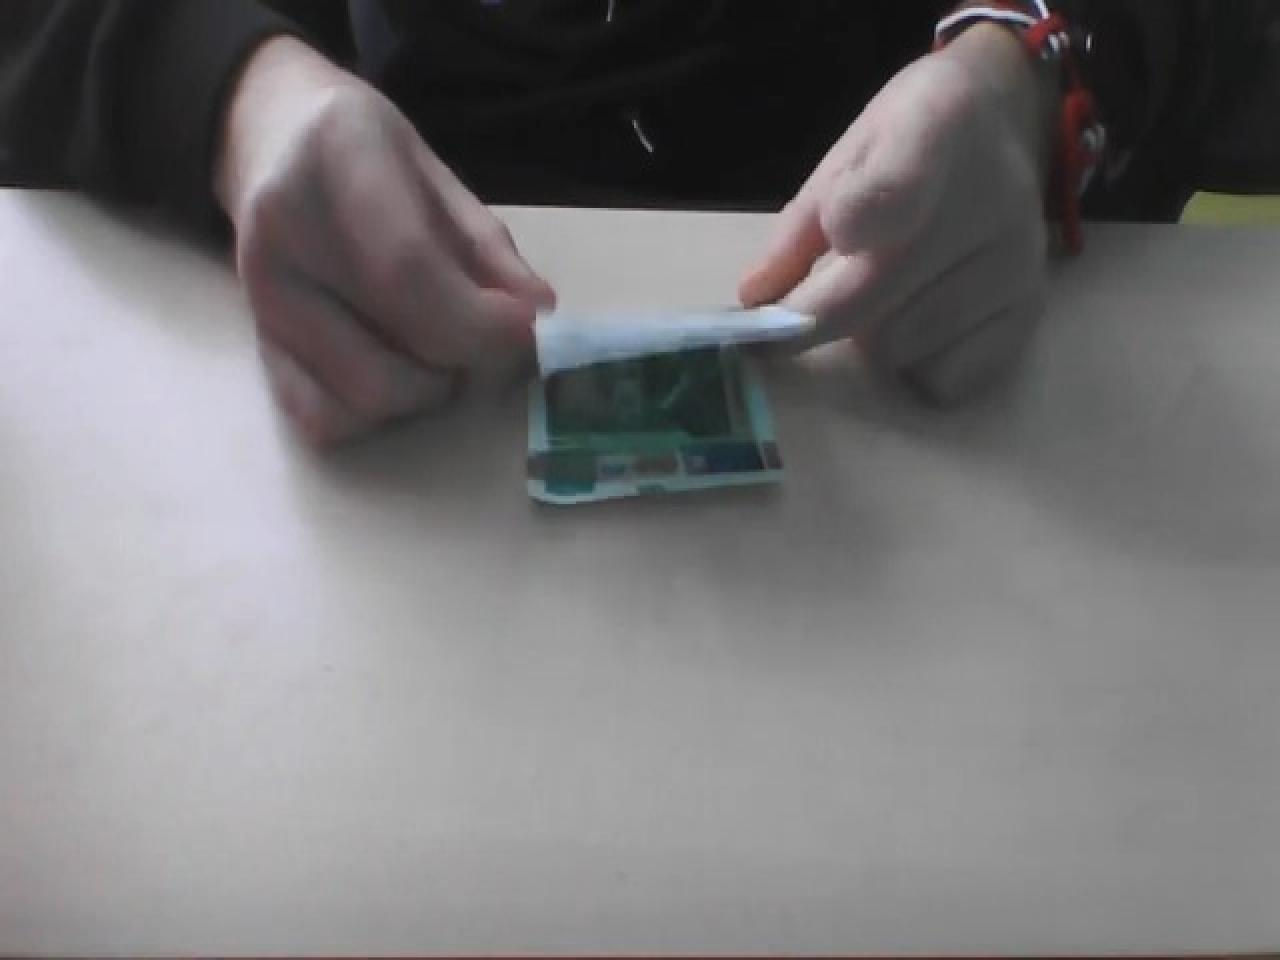100leva: (524, 315, 806, 506)
